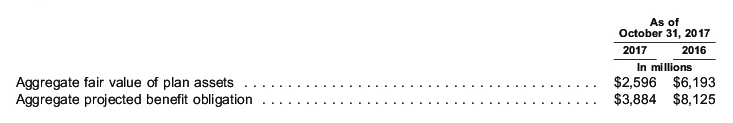table: (0, 0, 733, 123)
